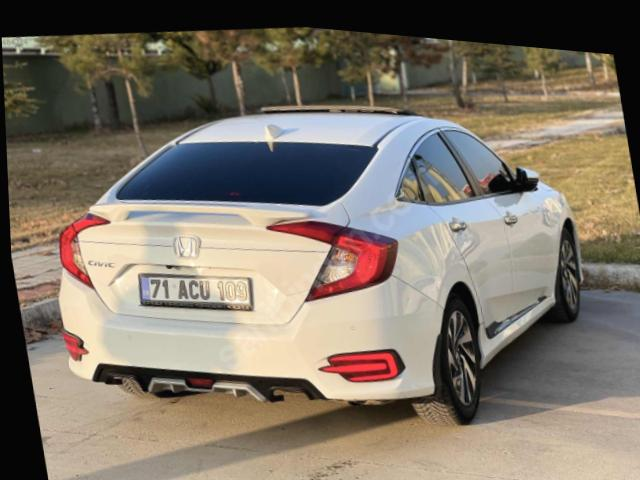plaka: (138, 273, 252, 310)
